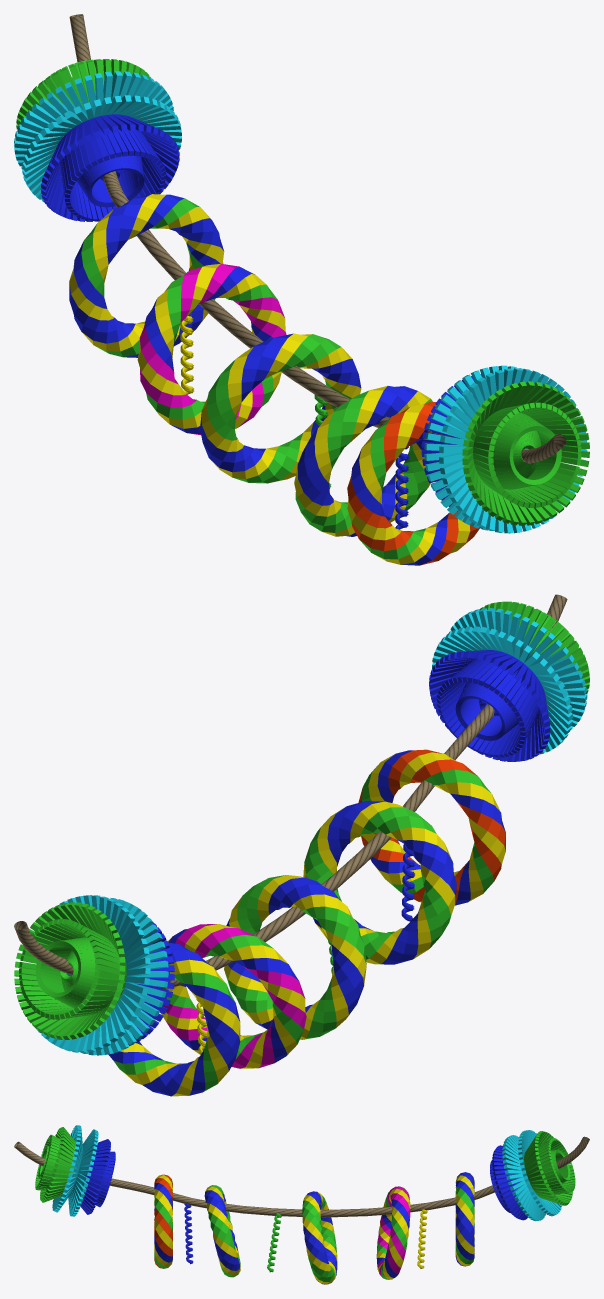
File: ColorProps5.fbx
3 renders of one model, top to bottom at view 1: azimuth 30°, elevation 25°; view 2: azimuth 150°, elevation 25°; view 3: azimuth 270°, elevation 25°, orthographic. The views are drawn at different scales.
Parts seen in each view (by area): view 1: Torus.001, Torus.004, Torus.005, Torus.010, Torus.007, Torus.009, Torus.008, BézierCurve, Circle.003, Circle; view 2: Torus.004, Torus.001, Torus.009, Torus.005, Torus.008, Torus.010, Torus.007, BézierCurve, Circle.003; view 3: Torus.004, Torus.001, BézierCurve, Torus.005, Torus.010, Torus.009, Torus.007, Torus.008, Circle.003, Circle, Circle.002.
Part boxes in pixels (x1,y1,x2,y2): Torus.001: (421,365,589,533); Torus.004: (14,59,181,221); Torus.005: (200,333,361,483); Torus.010: (137,263,286,435); Torus.007: (69,194,224,357); Torus.009: (294,386,432,536); Torus.008: (347,401,479,565); BézierCurve: (69,14,566,463); Circle.003: (395,446,408,529); Circle: (180,316,194,394); Torus.004: (14,895,174,1055); Torus.001: (429,601,589,761); Torus.009: (303,801,456,964); Torus.005: (224,875,366,1039); Torus.008: (358,749,505,905); Torus.010: (161,924,306,1068); Torus.007: (108,942,240,1096); BézierCurve: (14,594,567,988); Circle.003: (401,809,416,921); Torus.004: (490,1130,575,1221); Torus.001: (35,1125,115,1216); BézierCurve: (14,1136,589,1217); Torus.005: (302,1191,337,1284); Torus.010: (376,1186,410,1279); Torus.009: (204,1185,240,1277); Torus.007: (455,1172,474,1266); Torus.008: (154,1174,172,1268); Circle.003: (184,1203,193,1264); Circle: (417,1209,427,1268); Circle.002: (267,1213,281,1272).
Size of the model in its own units: 267 by 446 by 1517.
25 materials, 1 textured.
